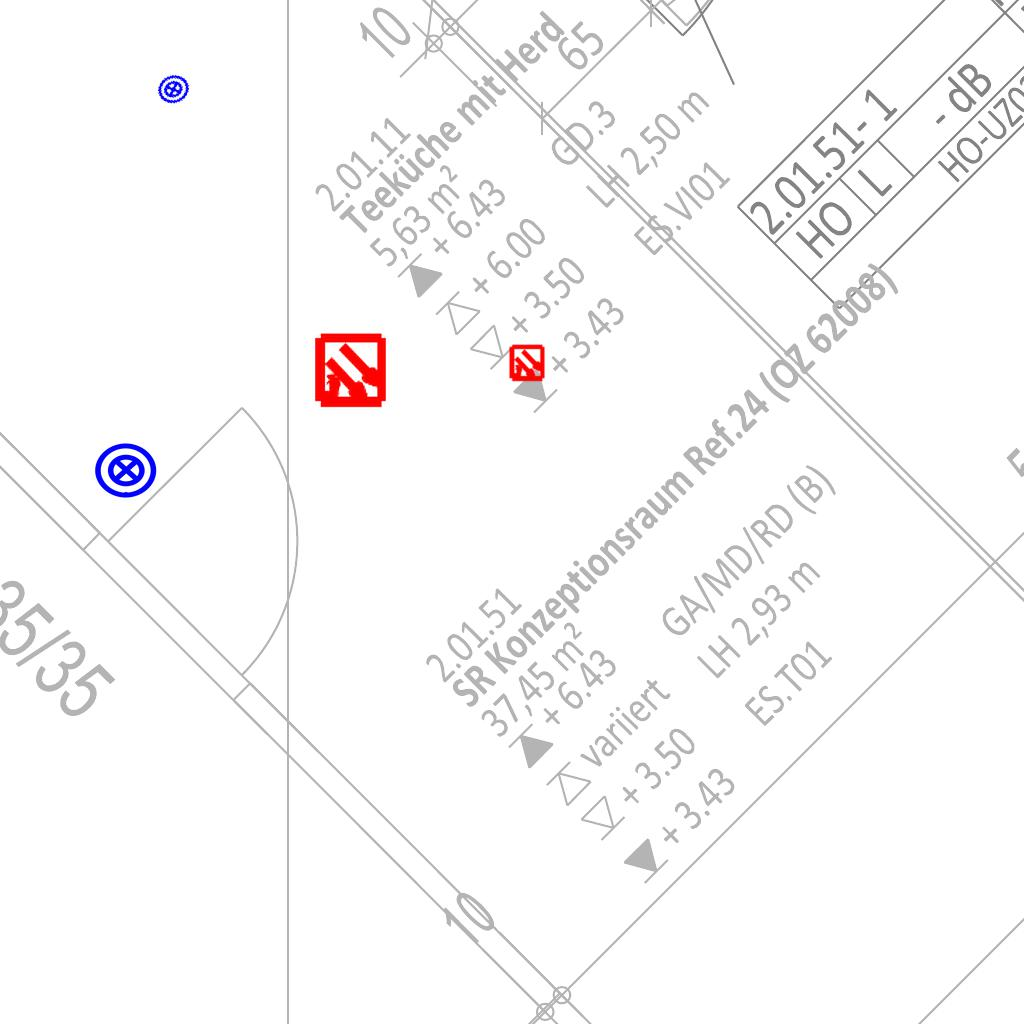OT_Multisensormelder_(Kombination_RMO_WMD): (294, 316, 407, 429), (499, 336, 555, 392)
Taster_beleuchtet: (93, 437, 159, 503), (152, 68, 195, 111)
